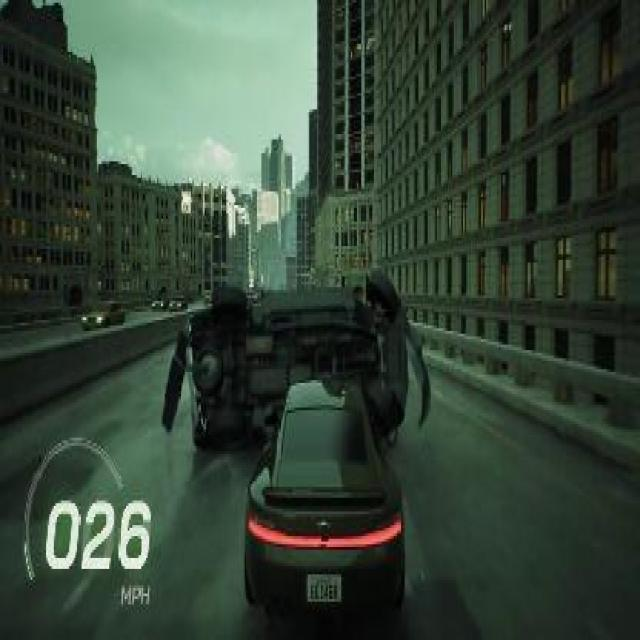accident: (165, 254, 437, 640)
